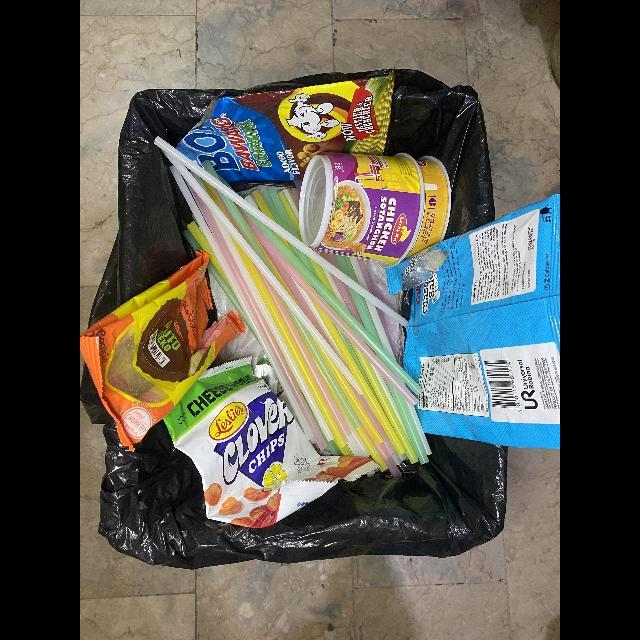food_wrapper: (386, 193, 560, 451), (161, 358, 378, 529), (80, 251, 246, 451), (178, 71, 394, 193), (181, 241, 184, 250), (220, 364, 222, 365)
plastic_container: (297, 151, 450, 267)
